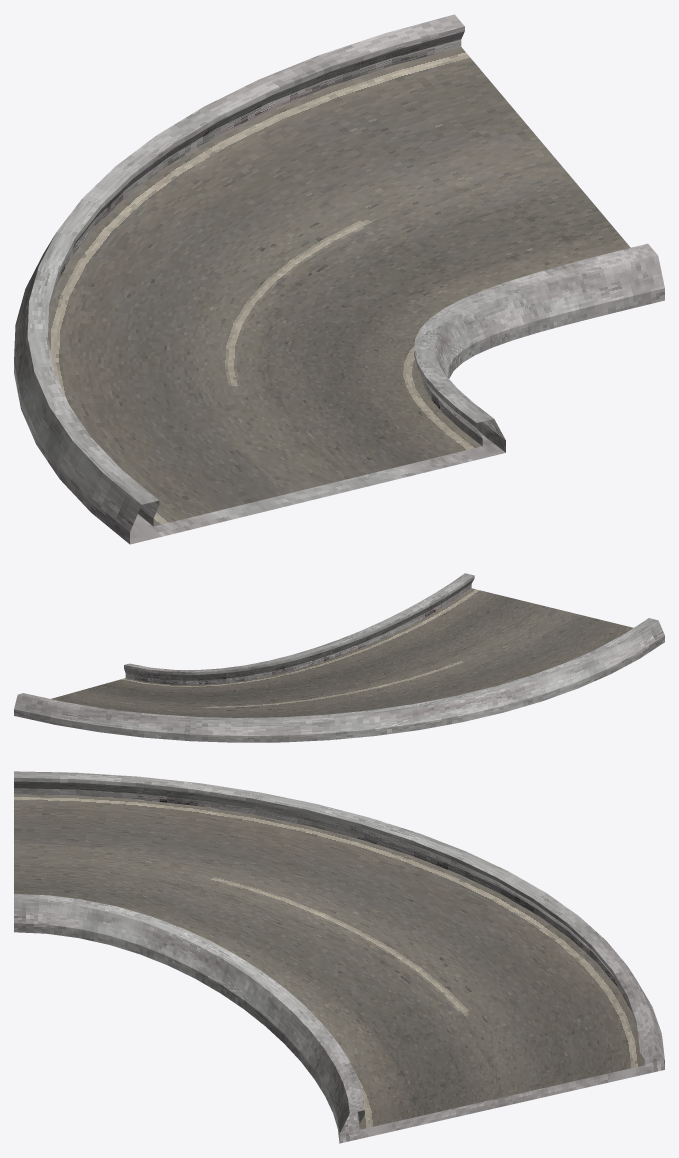
File: road-Turn-Flat-HalfBankedRight-Down1-Right-Size2.glb
3 views of the same model, one above another, from view 1: azimuth 30°, elevation 25°; view 2: azimuth 150°, elevation 25°; view 3: azimuth 270°, elevation 25° (orthographic). The views are drawn at different scales.
Parts seen in each view (by area): view 1: road-Turn-Flat-HalfBankedRight-Down1-Right-Size2; view 2: road-Turn-Flat-HalfBankedRight-Down1-Right-Size2; view 3: road-Turn-Flat-HalfBankedRight-Down1-Right-Size2.
Boxes of the visible parts, x1,y1,x2,y2 form: road-Turn-Flat-HalfBankedRight-Down1-Right-Size2: (14, 14, 664, 544); road-Turn-Flat-HalfBankedRight-Down1-Right-Size2: (14, 573, 664, 742); road-Turn-Flat-HalfBankedRight-Down1-Right-Size2: (14, 771, 664, 1143).
Size of the model in its own units: 2 by 0.3438 by 2.
2 materials, 2 textured.
